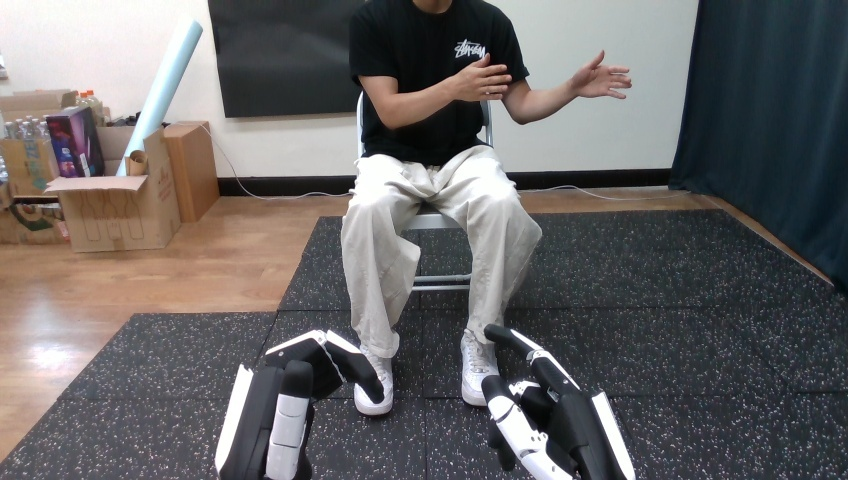left robot arm: (215, 330, 383, 479), (482, 324, 634, 479)
left robot hand: (215, 330, 383, 479), (570, 51, 631, 98)
right robot arm: (215, 330, 383, 479), (482, 324, 634, 479)
right robot hand: (448, 54, 511, 101), (570, 51, 631, 98)
